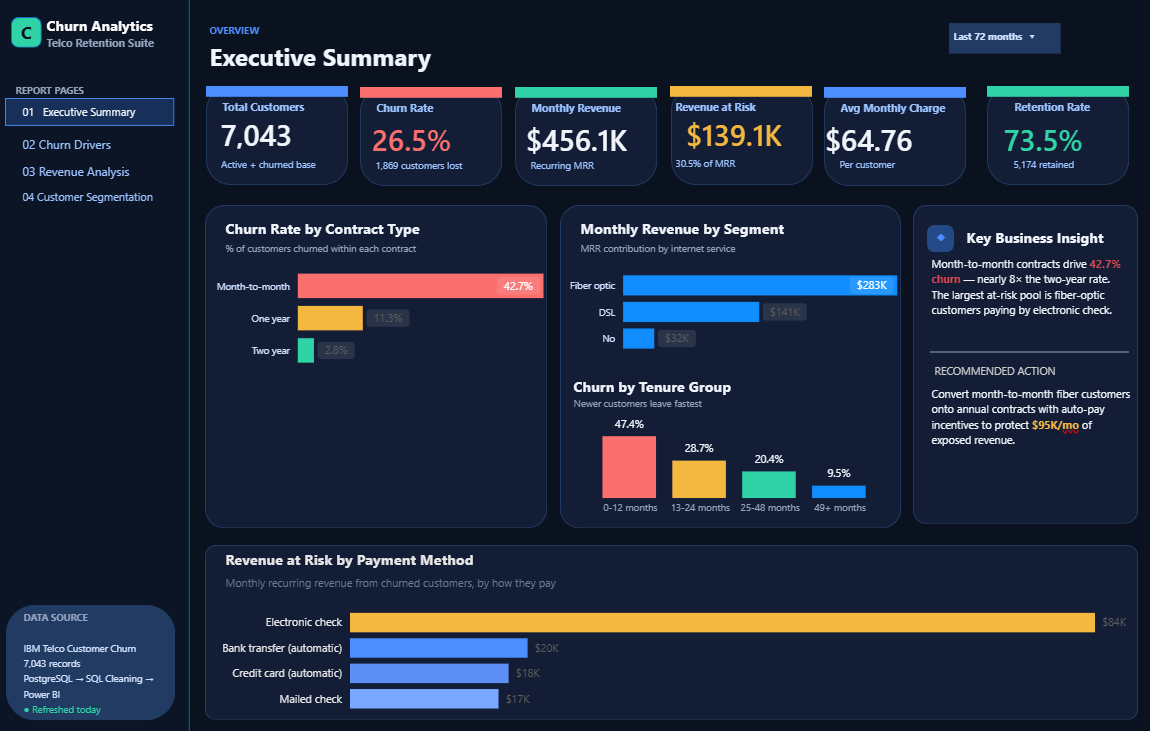

The page's visual inventory and layout, read from the dashboard file:
{"tool":"powerbi","page":{"name":"Executive Summary","canvas":[1290,820],"ordinal":0},"visuals":[{"type":"shape","box":[0,0,218.2,820],"z":0},{"type":"shape","box":[20,22,34,34],"z":1000},{"type":"textbox","box":[54.3,15.7,164.3,62.9],"z":2000},{"type":"textbox","box":[20,88.6,150,31.4],"z":3000},{"type":"shape","box":[13.6,111.8,188.2,30.9],"z":4000},{"type":"textbox","box":[28.2,113.6,160,28.2],"z":5000},{"type":"textbox","box":[28.2,150,160,28.2],"z":6000},{"type":"textbox","box":[28.2,180,160,28.2],"z":7000},{"type":"textbox","box":[28.2,208.2,160,45.5],"z":8000},{"type":"shape","box":[14,675,188,128],"z":9000},{"type":"textbox","box":[29.1,674.5,181.8,131.8],"z":10000},{"type":"textbox","box":[247.8,22.2,120,34.4],"z":11000},{"type":"textbox","box":[247.8,42.2,264.4,46.7],"z":12000},{"type":"shape","box":[1074.4,28.9,124.4,34.4],"z":13000},{"type":"textbox","box":[1074.4,28.9,107.8,34.4],"z":14000},{"type":"shape","box":[249,98.9,158,110],"z":15000},{"type":"shape","box":[248.9,98.7,157.7,12.4],"z":16000},{"type":"textbox","box":[249.4,108.1,157.5,37.4],"z":17000},{"type":"cardVisual","fields":{"Data":["public vw_churn_by_contract.Total Customers Display"]},"box":[237.3,115.1,157.5,70.7],"z":18000},{"type":"textbox","box":[249.4,170.7,158.5,37.4],"z":19000},{"type":"shape","box":[416.5,99.8,158,110],"z":20000},{"type":"shape","box":[416.5,99.6,157.7,12.4],"z":21000},{"type":"textbox","box":[429.5,108.9,157.9,37.4],"z":22000},{"type":"cardVisual","fields":{"Data":["public vw_churn_by_contract.Churn Rate Display"]},"box":[404.7,115.8,194.7,83.2],"z":23000},{"type":"textbox","box":[428.9,171.6,158.4,37.4],"z":24000},{"type":"shape","box":[587.2,99.8,158,110],"z":25000},{"type":"shape","box":[587.2,99.6,157.7,12.4],"z":26000},{"type":"textbox","box":[600.1,108.9,157.9,37.4],"z":27000},{"type":"cardVisual","fields":{"Data":["public vw_churn_by_contract.Monthly Revenue Display"]},"box":[575.4,115.8,194.7,83.2],"z":28000},{"type":"textbox","box":[599.6,171.6,158.4,37.4],"z":29000},{"type":"shape","box":[751.7,98.9,158,110],"z":30000},{"type":"shape","box":[751.7,98.7,157.7,12.4],"z":31000},{"type":"textbox","box":[752.2,108.1,157.5,37.4],"z":32000},{"type":"cardVisual","fields":{"Data":["public vw_churn_by_contract.Revenue at Risk Display"]},"box":[740,115.5,167.3,70.9],"z":33000},{"type":"textbox","box":[752.2,170.7,158.5,37.4],"z":34000},{"type":"shape","box":[919.3,99.8,158,110],"z":35000},{"type":"shape","box":[919.2,99.6,157.7,12.4],"z":36000},{"type":"textbox","box":[932.2,108.9,157.9,37.4],"z":37000},{"type":"cardVisual","fields":{"Data":["public vw_churn_by_contract.Avg Monthly Charge Display"]},"box":[907.5,115.8,194.7,83.2],"z":38000},{"type":"textbox","box":[931.7,171.6,158.4,37.4],"z":39000},{"type":"shape","box":[1089.9,99.8,158,110],"z":40000},{"type":"shape","box":[1089.9,99.6,157.7,12.4],"z":41000},{"type":"textbox","box":[1102.9,108.9,157.9,37.4],"z":42000},{"type":"cardVisual","fields":{"Data":["public vw_churn_by_contract.Retention Rate Display"]},"box":[1078.1,115.8,194.7,83.2],"z":43000},{"type":"textbox","box":[1102.3,171.6,158.4,37.4],"z":44000},{"type":"shape","box":[248.9,231.1,416.7,390],"z":45000},{"type":"textbox","box":[265.6,241.1,283.3,54.4],"z":46000},{"type":"textbox","box":[265.6,264.4,283.3,34.4],"z":47000},{"type":"clusteredBarChart","fields":{"Category":["public vw_churn_by_contract.contract"],"Y":["CountNonNull(public vw_churn_by_contract.churn_rate)"]},"box":[248.9,318.9,416.7,198.9],"z":48000}]}

Visuals, with their boxes on the page's 1290x820 design canvas (x1, y1, x2, y2). These are canvas units, not pixel positions in the 1150x731 screenshot, which may show the page scaled, cropped or inside an application window:
shape: <box>0,0,218,820</box>
shape: <box>20,22,54,56</box>
textbox: <box>54,16,219,79</box>
textbox: <box>20,89,170,120</box>
shape: <box>14,112,202,143</box>
textbox: <box>28,114,188,142</box>
textbox: <box>28,150,188,178</box>
textbox: <box>28,180,188,208</box>
textbox: <box>28,208,188,254</box>
shape: <box>14,675,202,803</box>
textbox: <box>29,674,211,806</box>
textbox: <box>248,22,368,57</box>
textbox: <box>248,42,512,89</box>
shape: <box>1074,29,1199,63</box>
textbox: <box>1074,29,1182,63</box>
shape: <box>249,99,407,209</box>
shape: <box>249,99,407,111</box>
textbox: <box>249,108,407,146</box>
cardVisual - public vw_churn_by_contract.Total Customers Display: <box>237,115,395,186</box>
textbox: <box>249,171,408,208</box>
shape: <box>416,100,574,210</box>
shape: <box>416,100,574,112</box>
textbox: <box>430,109,587,146</box>
cardVisual - public vw_churn_by_contract.Churn Rate Display: <box>405,116,599,199</box>
textbox: <box>429,172,587,209</box>
shape: <box>587,100,745,210</box>
shape: <box>587,100,745,112</box>
textbox: <box>600,109,758,146</box>
cardVisual - public vw_churn_by_contract.Monthly Revenue Display: <box>575,116,770,199</box>
textbox: <box>600,172,758,209</box>
shape: <box>752,99,910,209</box>
shape: <box>752,99,909,111</box>
textbox: <box>752,108,910,146</box>
cardVisual - public vw_churn_by_contract.Revenue at Risk Display: <box>740,116,907,186</box>
textbox: <box>752,171,911,208</box>
shape: <box>919,100,1077,210</box>
shape: <box>919,100,1077,112</box>
textbox: <box>932,109,1090,146</box>
cardVisual - public vw_churn_by_contract.Avg Monthly Charge Display: <box>908,116,1102,199</box>
textbox: <box>932,172,1090,209</box>
shape: <box>1090,100,1248,210</box>
shape: <box>1090,100,1248,112</box>
textbox: <box>1103,109,1261,146</box>
cardVisual - public vw_churn_by_contract.Retention Rate Display: <box>1078,116,1273,199</box>
textbox: <box>1102,172,1261,209</box>
shape: <box>249,231,666,621</box>
textbox: <box>266,241,549,296</box>
textbox: <box>266,264,549,299</box>
clusteredBarChart - public vw_churn_by_contract.contract x CountNonNull(public vw_churn_by_contract.churn_rate): <box>249,319,666,518</box>
